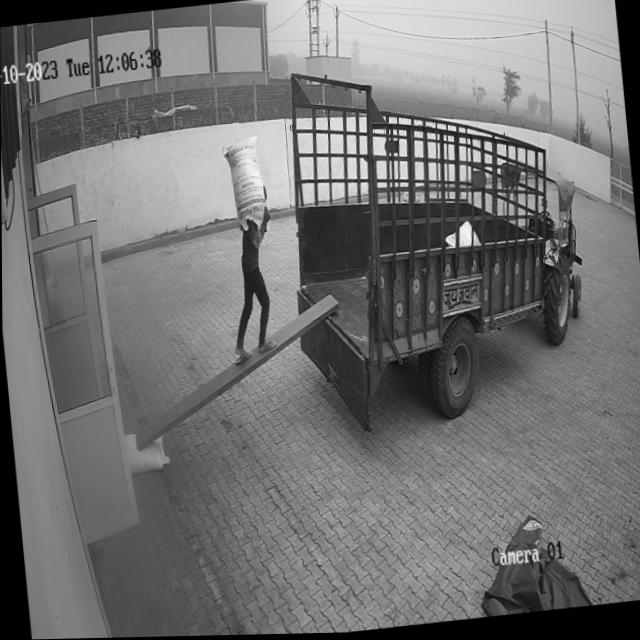sack: (221, 136, 267, 232), (123, 429, 169, 476)
